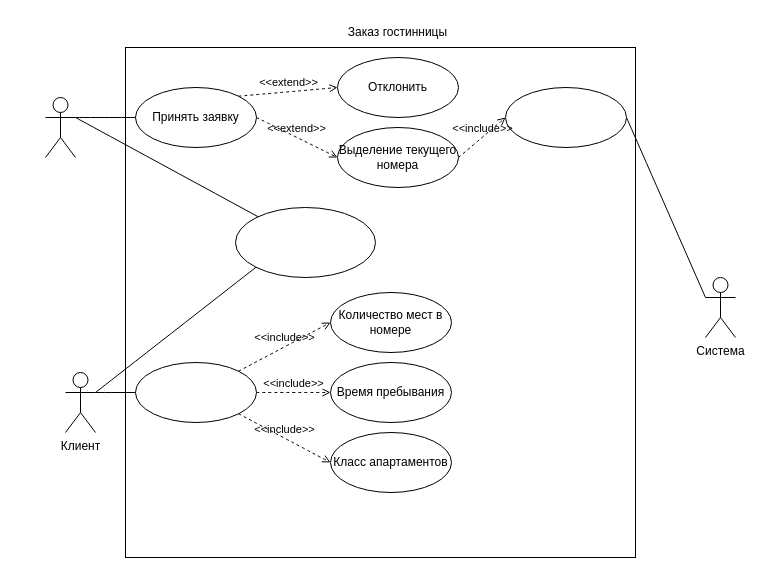
Some shapes in this 762 by 575 pixel diagram are drawn without their labels. The shapes that lost their labels are listed below. From the top down, each one's centre as x and y in pixels, then its label:
pixel 60 127: Администратор
pixel 565 117: Выставление счёта
pixel 305 242: Просмотр счёта
pixel 195 392: Заполнение заявки
